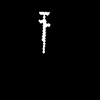double_crochet: (39, 12, 49, 52)
